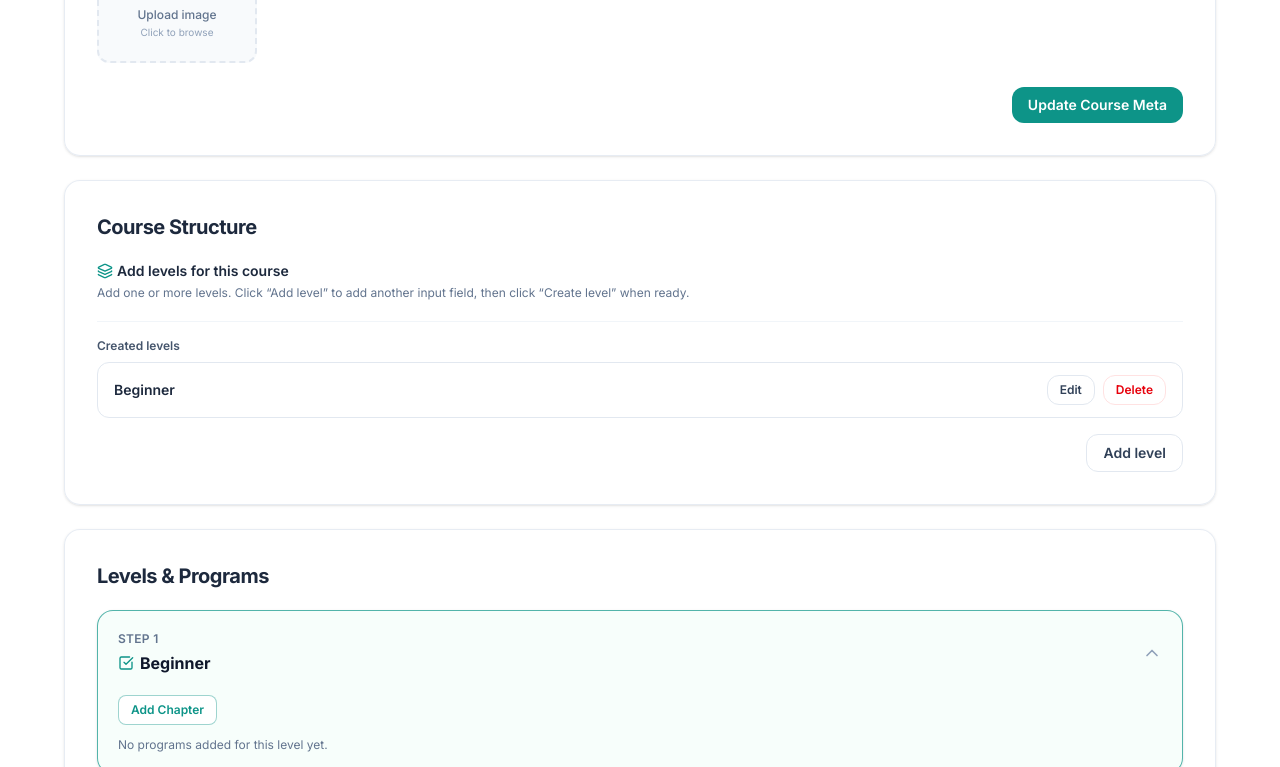
CourseBuilder - levels + chapters › does not delete a level when confirmation is cancelled
(page scrolled)
Expected: the text "Beginner" is shown, [114,380,175,400]
Click the button "Delete" at (1134, 390), box [1103,374,1166,404]
(page scrolled)
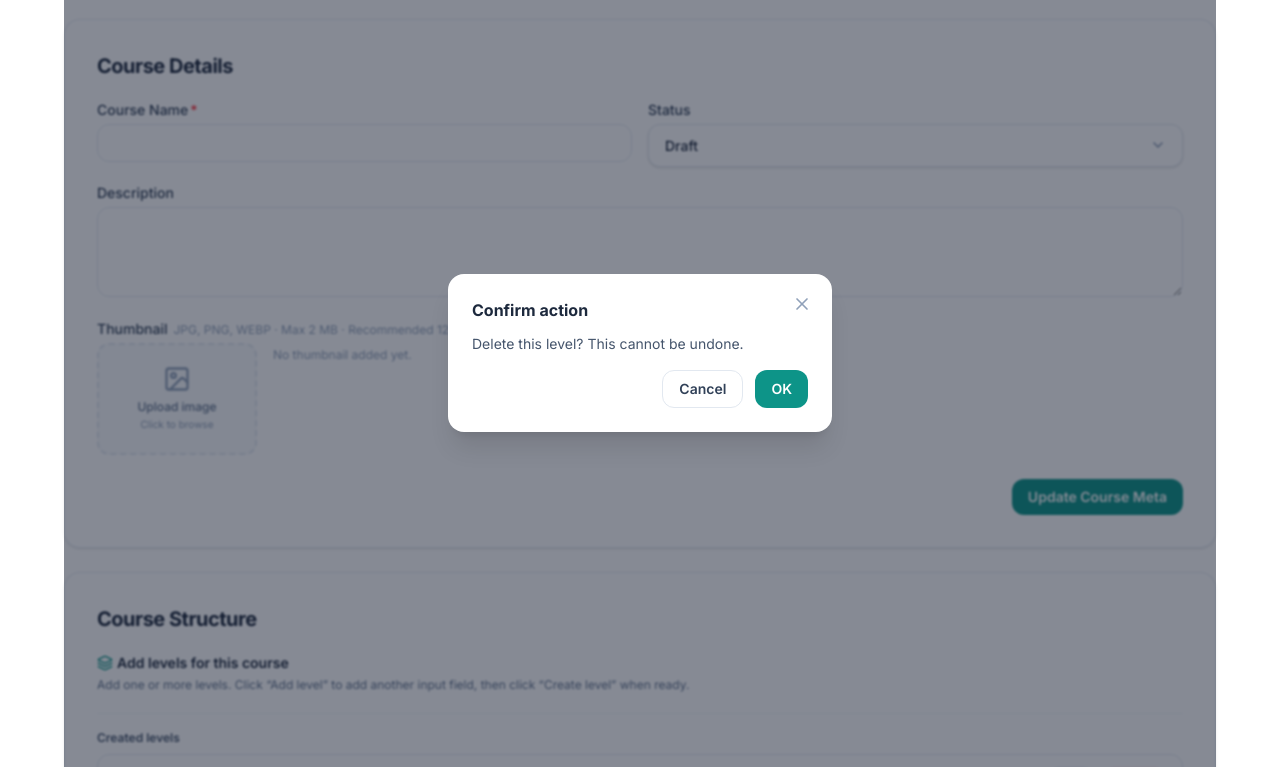
Click the button "Cancel" at (703, 389), box [662,370,743,408]
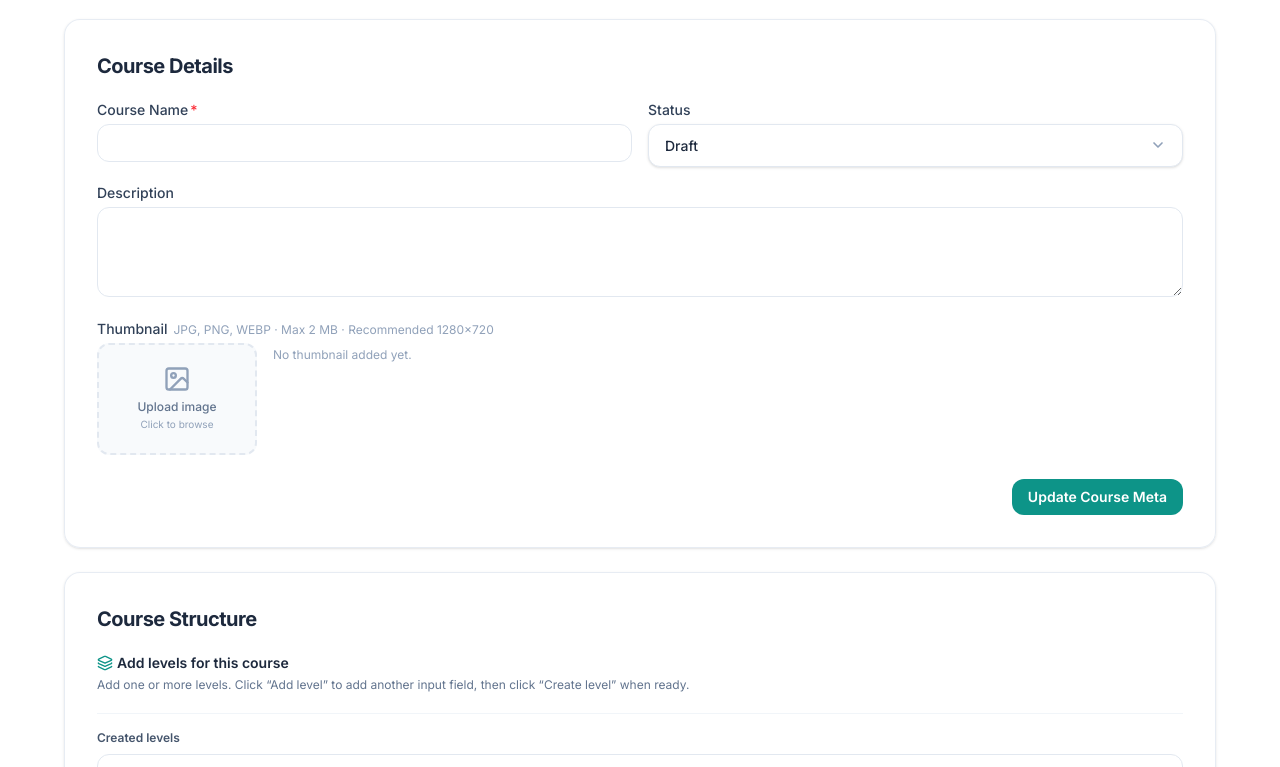
Expected: the heading "Confirm action" is gone
